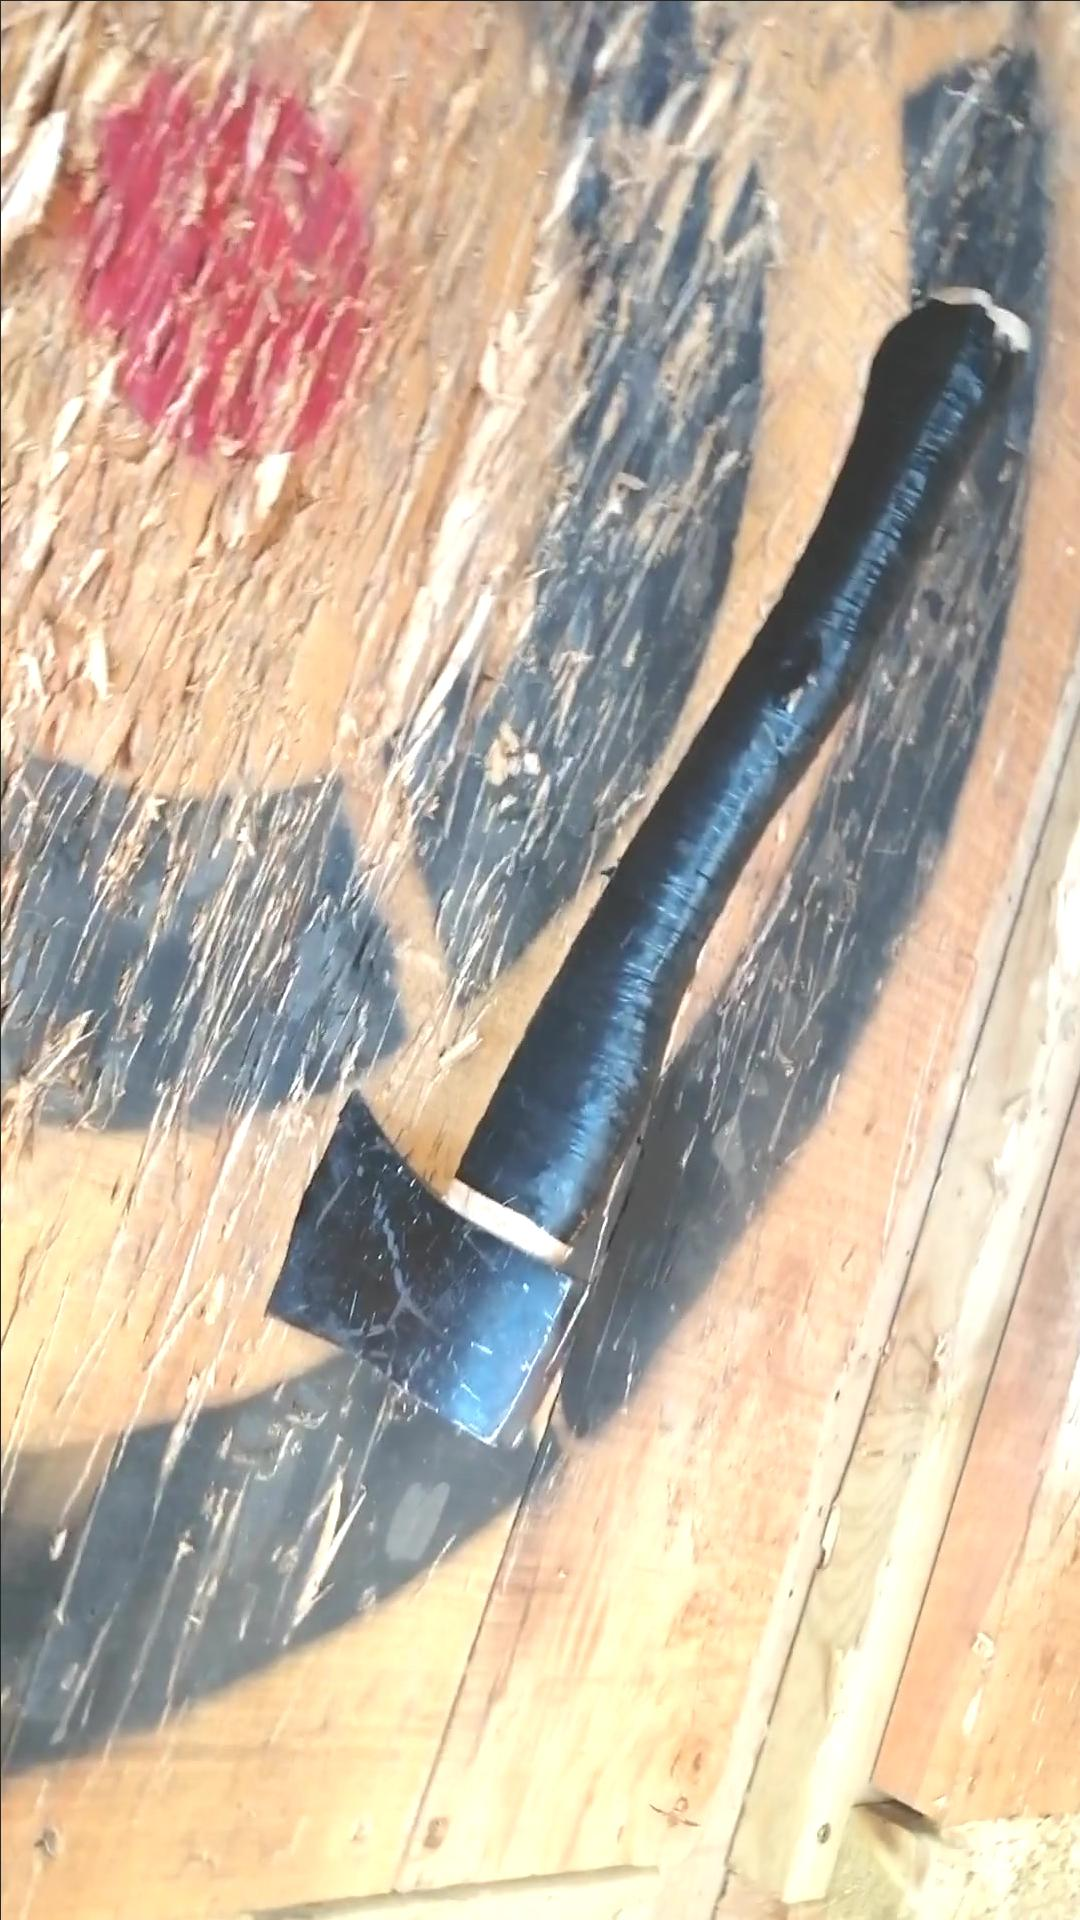Hand Axe: (266, 1085, 597, 1452)
